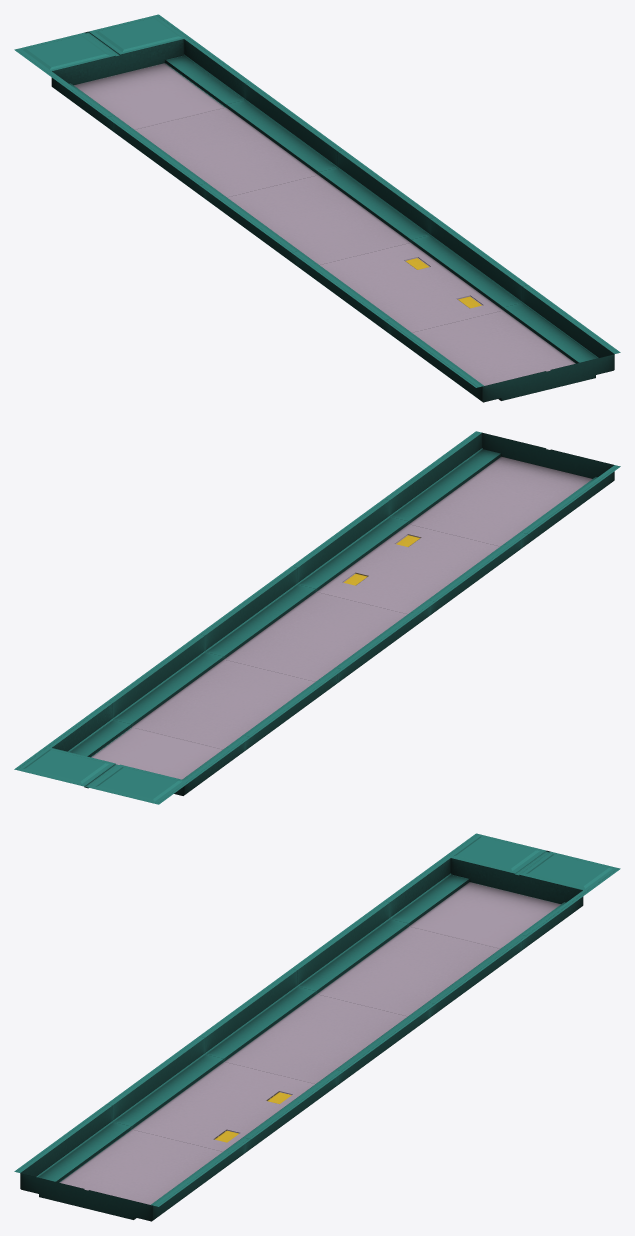
Rendered from sc_lvl1_floortile_05.FBX.
3 renders of one model, top to bottom at view 1: azimuth 30°, elevation 25°; view 2: azimuth 150°, elevation 25°; view 3: azimuth 330°, elevation 25°, orthographic.
Parts seen in each view (by area): view 1: sc_lvl1_floortile_05; view 2: sc_lvl1_floortile_05; view 3: sc_lvl1_floortile_05.
Boxes of the visible parts, left/top/right/bottom form: sc_lvl1_floortile_05: left=14, top=14, right=620, bottom=402; sc_lvl1_floortile_05: left=14, top=431, right=620, bottom=804; sc_lvl1_floortile_05: left=14, top=833, right=620, bottom=1221.
Bounding box in the file's own units: 18.1 × 2.52 × 100.
